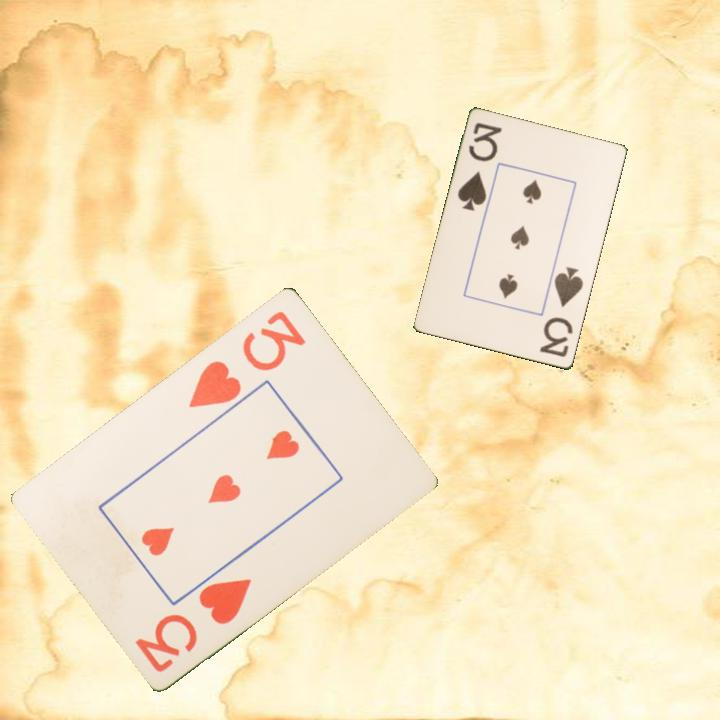3h: (184, 306, 309, 411), (131, 574, 255, 675)
3s: (536, 263, 586, 361), (454, 119, 505, 214)
